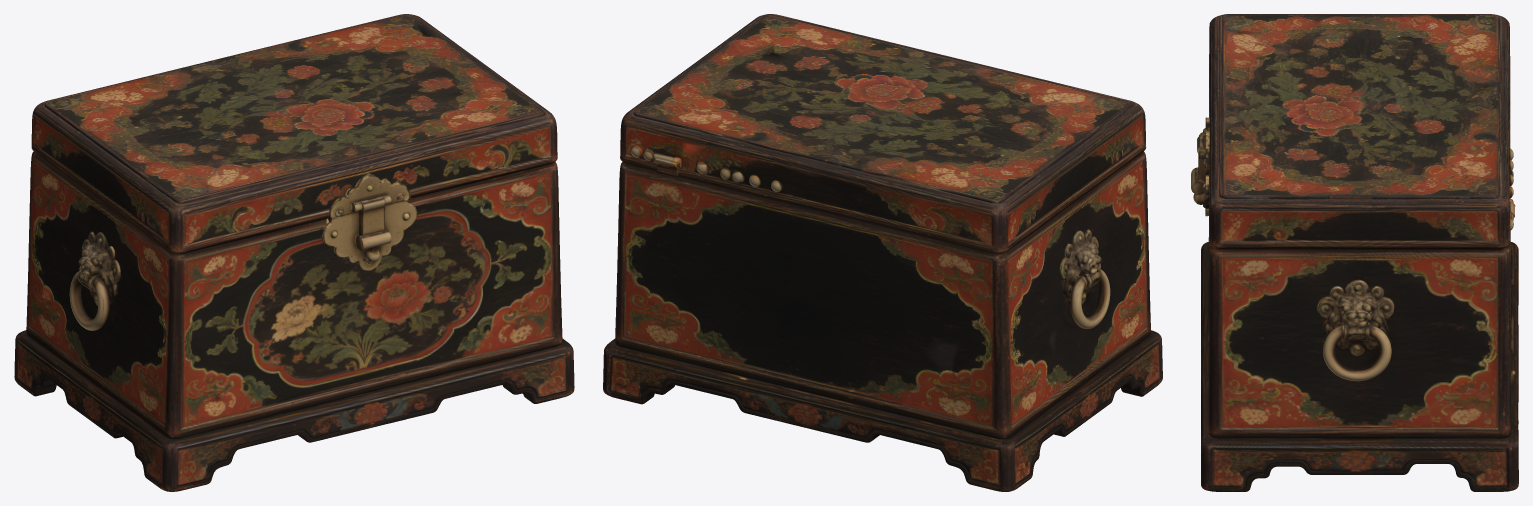
The picture shows the model from 3 angles, left to right: view 1: azimuth 30°, elevation 25°; view 2: azimuth 150°, elevation 25°; view 3: azimuth 270°, elevation 25°; orthographic projection.
Parts seen in each view (by area): view 1: node_0; view 2: node_0; view 3: node_0.
Boxes of the visible parts, x1=… form: node_0: x1=14, y1=14, x2=574, y2=491; node_0: x1=603, y1=14, x2=1162, y2=491; node_0: x1=1191, y1=14, x2=1518, y2=491.
Size of the model in its own units: 0.9258 by 0.5803 by 0.6033.
1 material, 1 textured.
